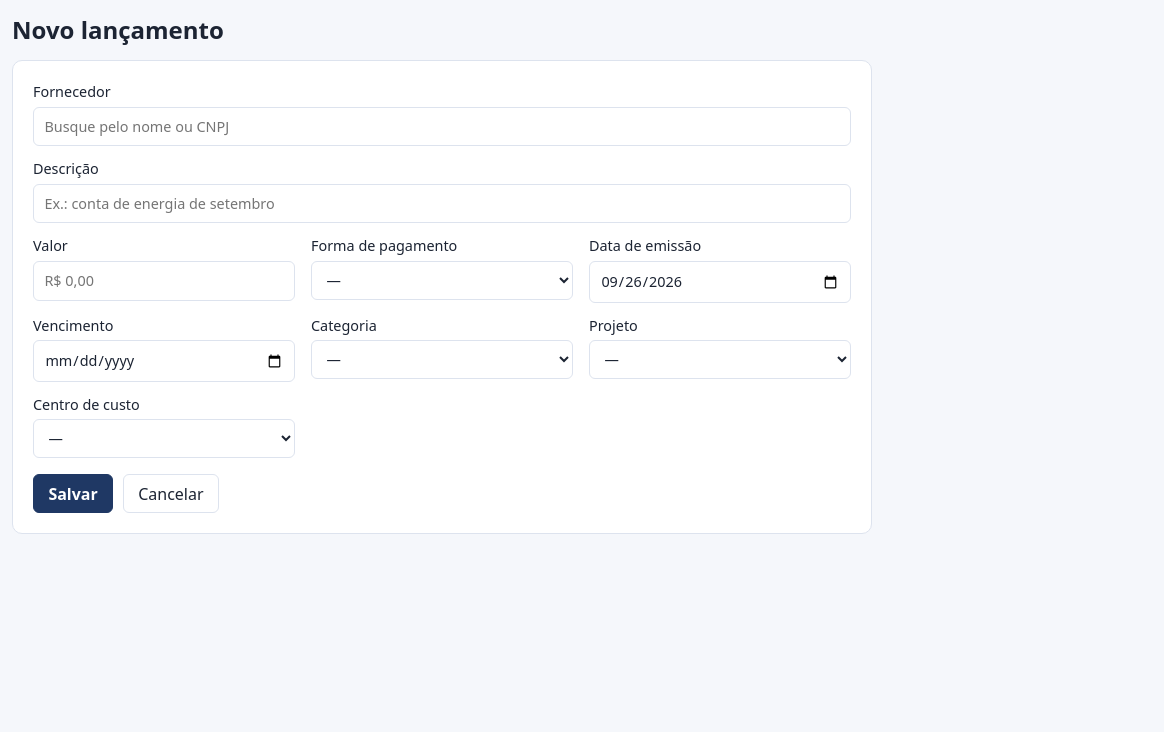
LancamentoFormPage › cadastra fornecedor novo sem sair do formulário
In the dropdown labelled "Fornecedor": (442, 126) [33,107,851,146], type "Mercado Bom"
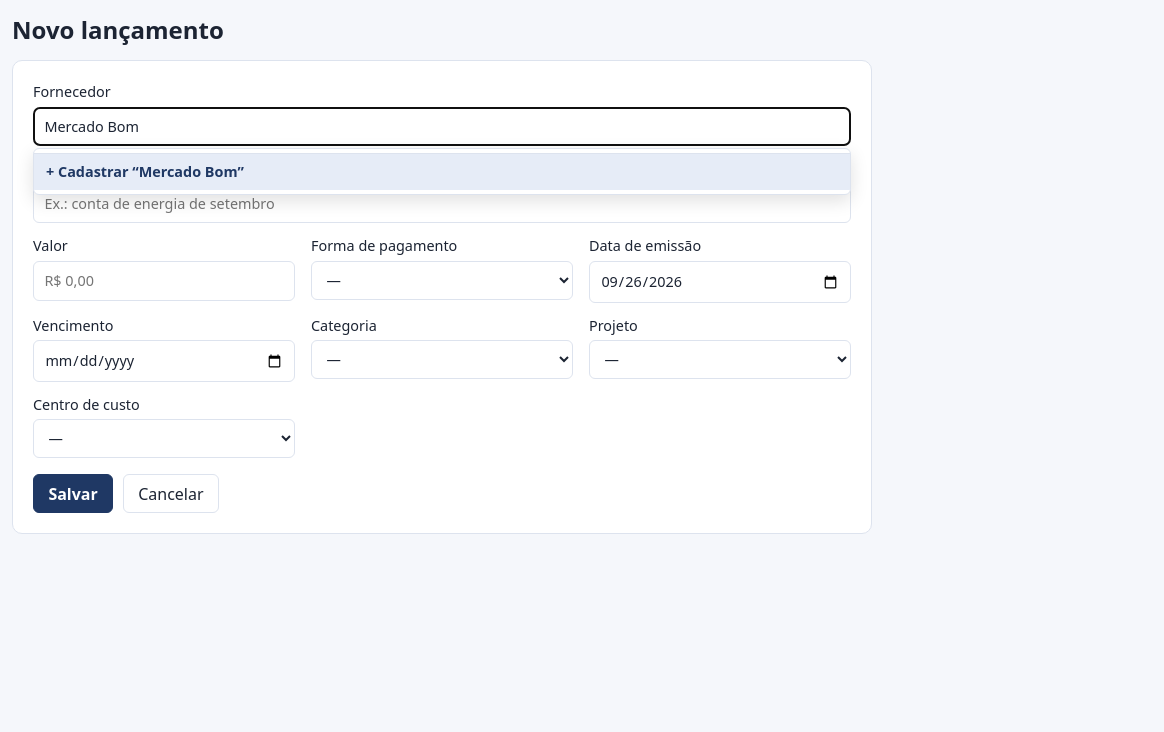
Click the option "+ Cadastrar “Mercado Bom”": (92, 172) [34,153,850,190]
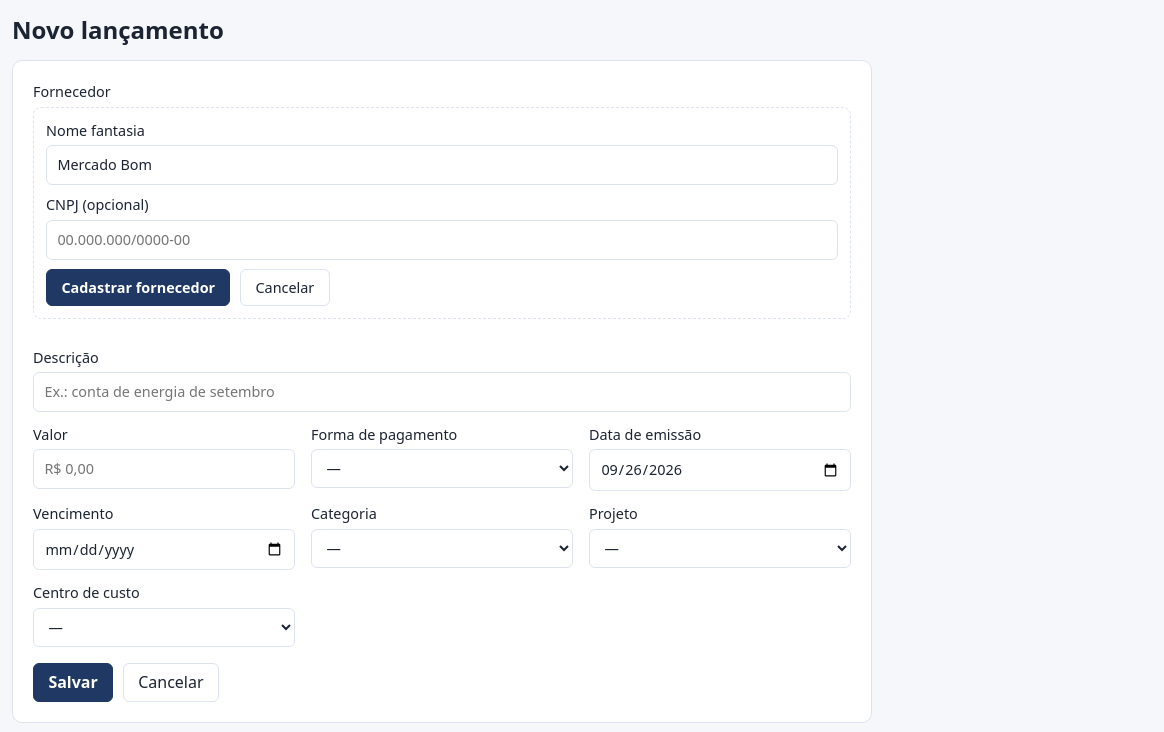
Click the button "Cadastrar fornecedor": (138, 287) [46,269,230,306]
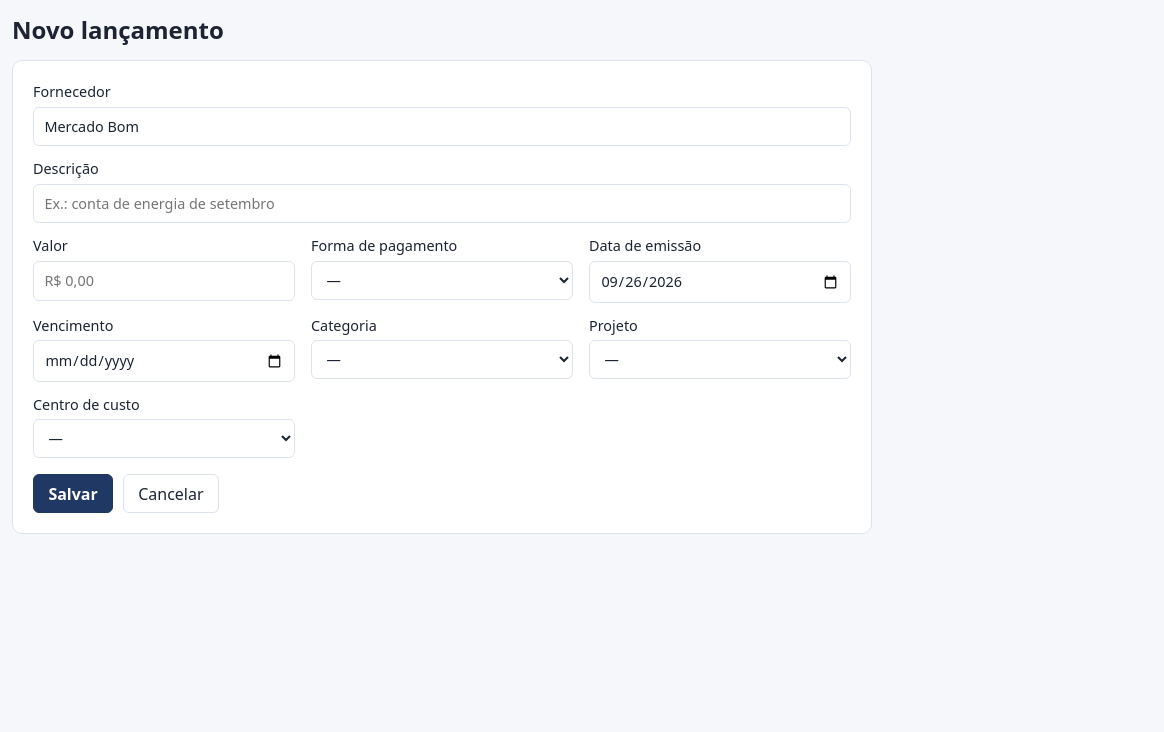
Result: the dropdown labelled "Fornecedor" holds "Mercado Bom" at [33,107,851,146]
